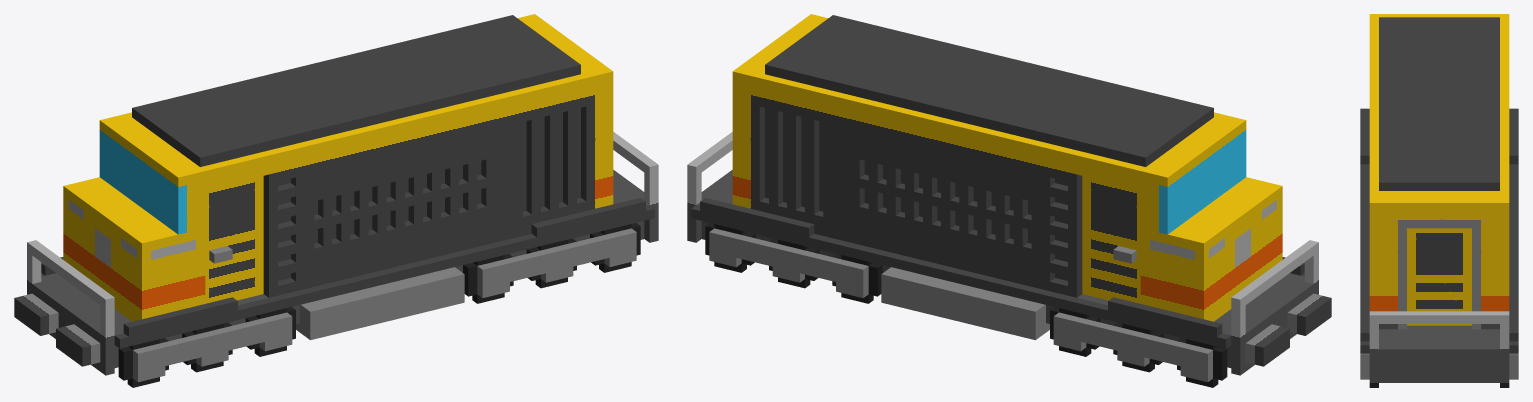
The model's file is veh_train2.fbx.
3 renders of one model, left to right at view 1: azimuth 30°, elevation 25°; view 2: azimuth 150°, elevation 25°; view 3: azimuth 270°, elevation 25°, orthographic. The views are drawn at different scales.
Parts seen in each view (by area): view 1: veh_train2; view 2: veh_train2; view 3: veh_train2.
Boxes of the visible parts, x1=… form: veh_train2: x1=14, y1=14, x2=658, y2=387; veh_train2: x1=687, y1=14, x2=1331, y2=387; veh_train2: x1=1360, y1=14, x2=1518, y2=387.
Size of the model in its own units: 6.3 by 1.7 by 2.2.
Materials: 1 (1 with a texture image).
